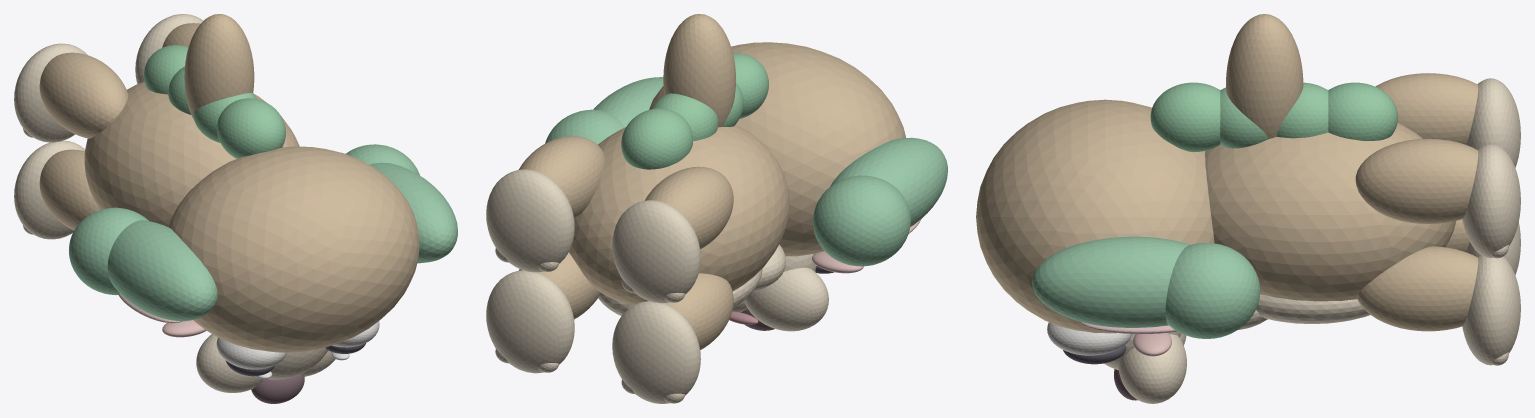
File: dog-06.glb
3 renders of one model, left to right at view 1: azimuth 30°, elevation 25°; view 2: azimuth 150°, elevation 25°; view 3: azimuth 270°, elevation 25°, orthographic. The views are drawn at different scales.
Parts seen in each view (by area): view 1: head, body, longEarL, legBodybackL, tail, longEarR, earEndL, dinoSpike3, legBodyfrontL, pawbackL, pawfrontL, muzzlePuffL (+11 smaller); view 2: head, body, earEndL, pawbackR, pawbackL, pawfrontL, pawfrontR, tail, longEarL, legBodybackL, muzzlePuffL, legBodybackR (+12 smaller); view 3: head, body, longEarR, legBodybackR, legBodyfrontR, earEndR, tail, legBodybackL, pawbackR, pawfrontR, dinoSpike3, dinoSpike0 (+10 smaller).
Boxes of the visible parts, bbox=[...] form: head: bbox=[168, 146, 419, 352]; body: bbox=[84, 81, 299, 226]; longEarL: bbox=[107, 220, 217, 321]; legBodybackL: bbox=[39, 52, 128, 138]; tail: bbox=[184, 14, 254, 118]; longEarR: bbox=[369, 162, 457, 262]; earEndL: bbox=[69, 207, 148, 295]; dinoSpike3: bbox=[217, 98, 285, 158]; legBodyfrontL: bbox=[39, 149, 99, 230]; pawbackL: bbox=[14, 43, 87, 142]; pawfrontL: bbox=[14, 140, 85, 239]; muzzlePuffL: bbox=[196, 334, 263, 392]; head: bbox=[649, 42, 905, 256]; body: bbox=[569, 124, 789, 305]; earEndL: bbox=[813, 175, 910, 266]; pawbackR: bbox=[486, 169, 574, 272]; pawbackL: bbox=[612, 200, 700, 303]; pawfrontL: bbox=[612, 301, 700, 403]; pawfrontR: bbox=[486, 270, 574, 373]; tail: bbox=[663, 14, 735, 127]; longEarL: bbox=[830, 137, 947, 226]; legBodybackL: bbox=[645, 166, 733, 249]; muzzlePuffL: bbox=[744, 267, 828, 331]; legBodybackR: bbox=[518, 136, 604, 218]; head: bbox=[976, 99, 1214, 333]; body: bbox=[1205, 123, 1456, 301]; longEarR: bbox=[1032, 236, 1190, 327]; legBodybackR: bbox=[1355, 138, 1478, 223]; legBodyfrontR: bbox=[1356, 246, 1478, 331]; earEndR: bbox=[1165, 243, 1260, 338]; tail: bbox=[1226, 14, 1303, 139]; legBodybackL: bbox=[1375, 73, 1478, 144]; pawbackR: bbox=[1462, 144, 1520, 257]; pawfrontR: bbox=[1462, 255, 1520, 365]; dinoSpike3: bbox=[1150, 82, 1220, 152]; dinoSpike0: bbox=[1328, 82, 1398, 140].
Size of the model in its own units: 2.02 by 1.95 by 2.53.
